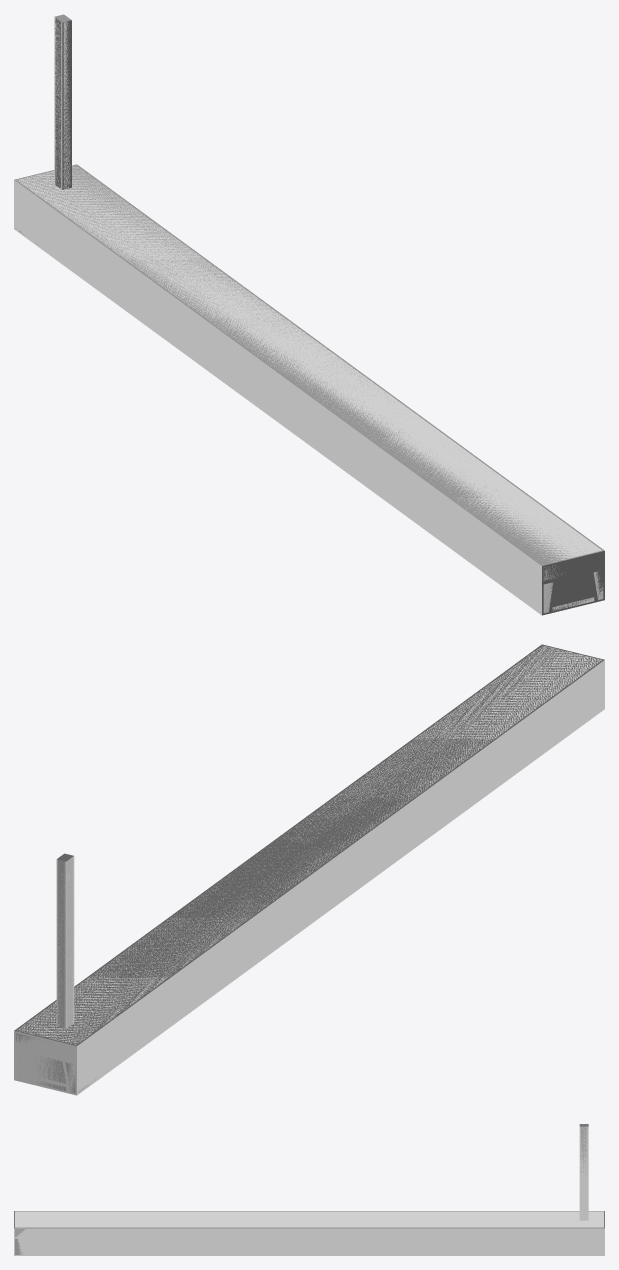
File: SM_LightSupport_01a.fbx
3 renders of one model, top to bottom at view 1: azimuth 30°, elevation 25°; view 2: azimuth 150°, elevation 25°; view 3: azimuth 270°, elevation 25°, orthographic. The views are drawn at different scales.
Parts seen in each view (by area): view 1: SM_LightSupport_01a_ConvexHulls, SM_LightSupport_01a; view 2: SM_LightSupport_01a_ConvexHulls, SM_LightSupport_01a; view 3: SM_LightSupport_01a_ConvexHulls, SM_LightSupport_01a.
Boxes of the visible parts, <box> form: SM_LightSupport_01a_ConvexHulls: <box>14,14,604,615</box>; SM_LightSupport_01a: <box>17,18,603,613</box>; SM_LightSupport_01a_ConvexHulls: <box>14,644,604,1095</box>; SM_LightSupport_01a: <box>15,646,601,1093</box>; SM_LightSupport_01a_ConvexHulls: <box>14,1124,604,1255</box>; SM_LightSupport_01a: <box>15,1126,603,1254</box>.
Size of the model in its own units: 20 by 290 by 65.74.
2 materials, 1 textured.
